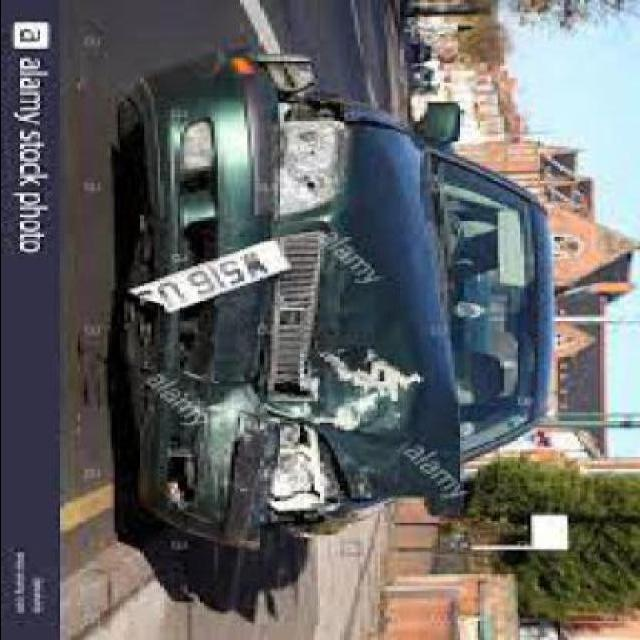Headlight-Damage: (254, 405, 354, 527)
bonnet-dent: (152, 100, 446, 523)
